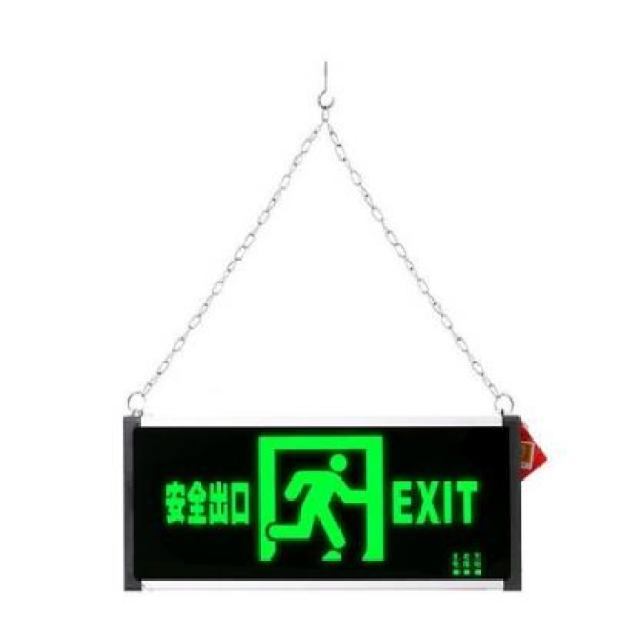exit_sign: (114, 411, 532, 593)
